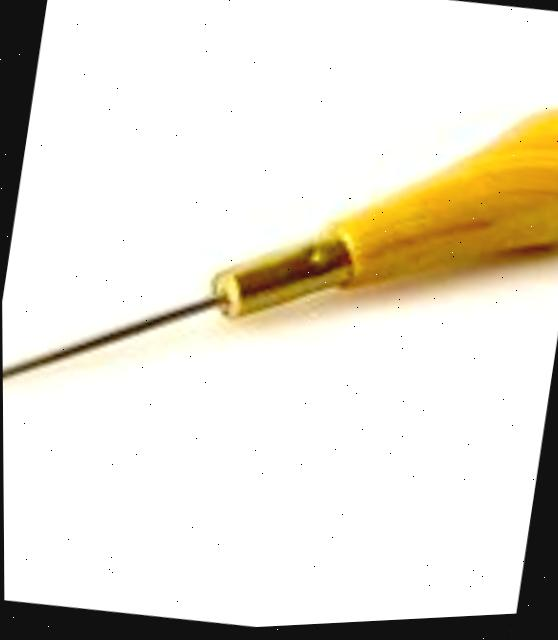ice pick: (0, 29, 558, 484)
